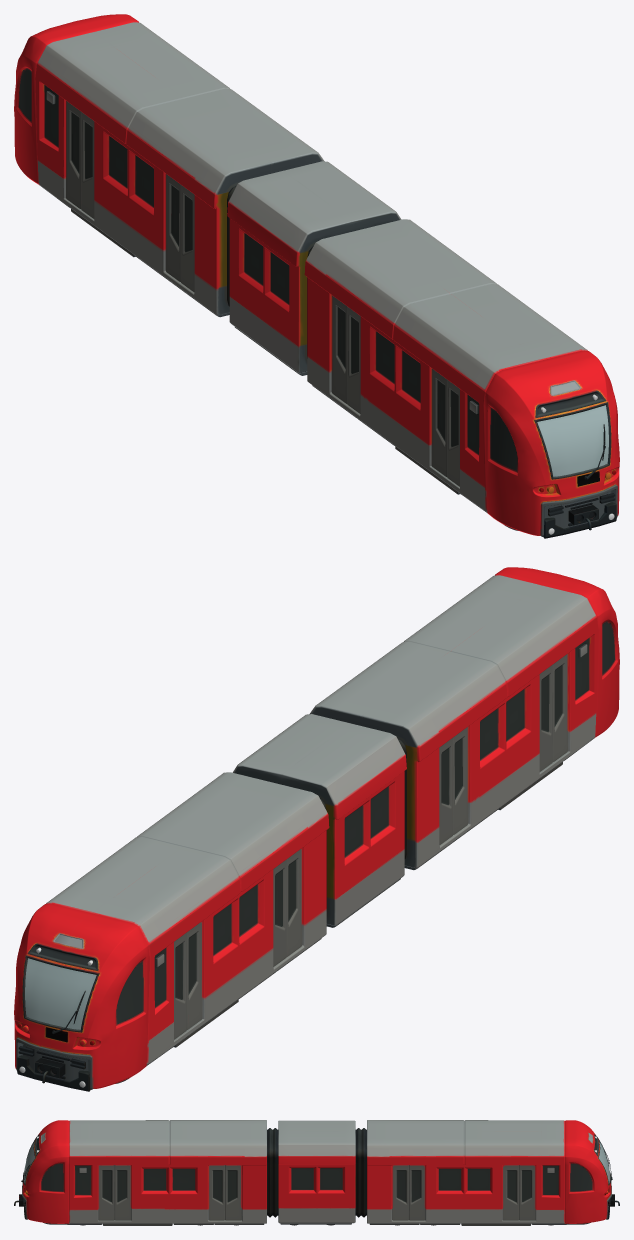
The model's file is locomotora.glb.
3 views of the same model, one above another, from view 1: azimuth 30°, elevation 25°; view 2: azimuth 150°, elevation 25°; view 3: azimuth 270°, elevation 25° (orthographic). The views are drawn at different scales.
Visible parts, largest first — view 1: node_id5; view 2: node_id5; view 3: node_id5.
Part boxes in pixels (x1,y1,x2,y2): node_id5: (14, 14, 619, 538); node_id5: (14, 567, 619, 1091); node_id5: (14, 1120, 619, 1225).
Size of the model in its own units: 0.4148 by 0.512 by 3.4.
1 material, 1 textured.
